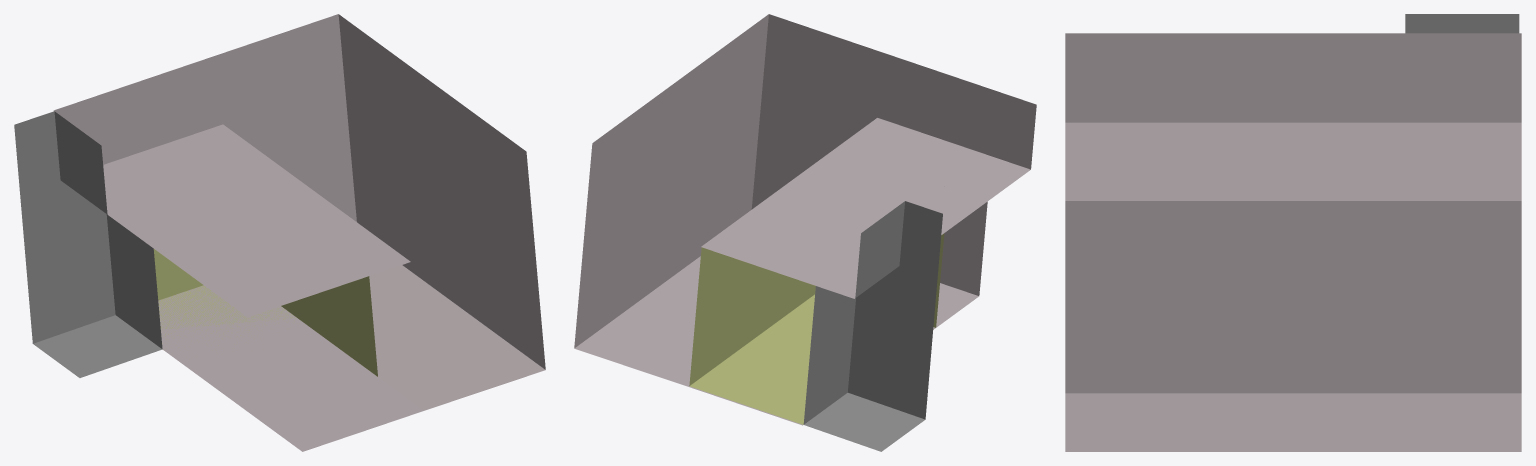
The picture shows the model from 3 angles, left to right: view 1: azimuth 30°, elevation 25°; view 2: azimuth 150°, elevation 25°; view 3: azimuth 270°, elevation 25°; orthographic projection. The views are drawn at different scales.
Parts seen in each view (by area): view 1: 0_2_3_3_3_1_0_1_3_3_2; view 2: 0_2_3_3_3_1_0_1_3_3_2; view 3: 0_2_3_3_3_1_0_1_3_3_2.
Boxes of the visible parts, x1,y1,x2,y2 form: 0_2_3_3_3_1_0_1_3_3_2: [14, 14, 545, 451]; 0_2_3_3_3_1_0_1_3_3_2: [574, 14, 1036, 451]; 0_2_3_3_3_1_0_1_3_3_2: [1065, 14, 1521, 451].
Size of the model in its own units: 12.7 by 8.96 by 12.
